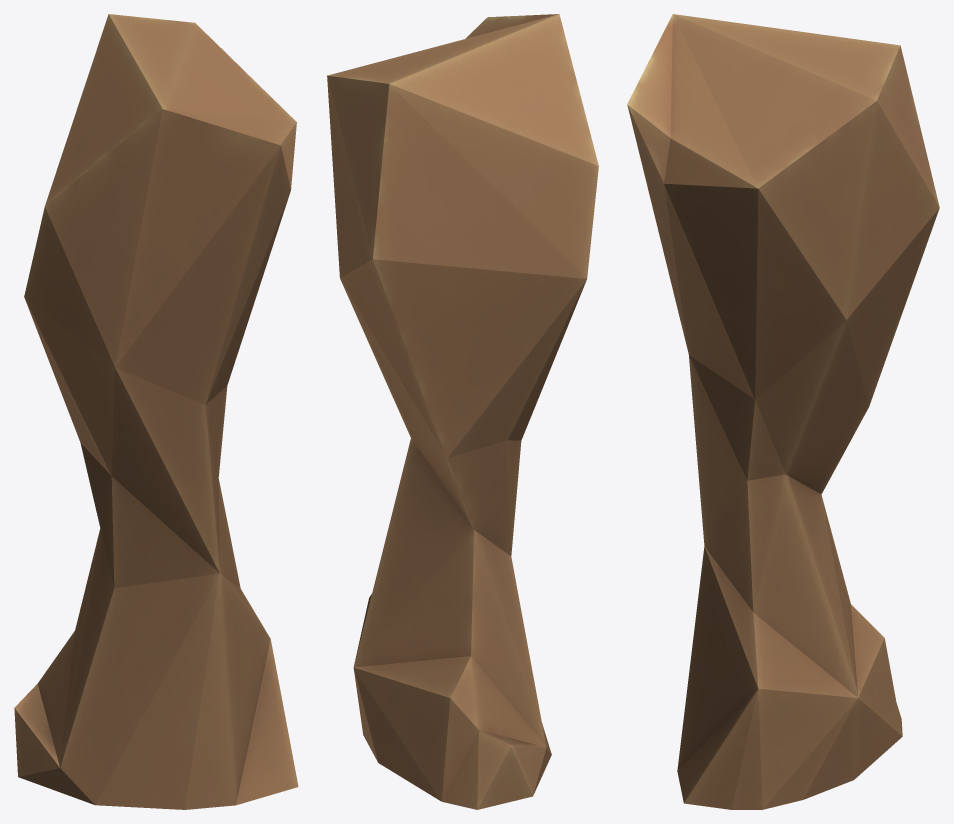
File: Mountain rock_19.fbx
The picture shows the model from 3 angles, left to right: view 1: azimuth 30°, elevation 25°; view 2: azimuth 150°, elevation 25°; view 3: azimuth 270°, elevation 25°; orthographic projection.
Visible parts, largest first — view 1: Mountain rock_19; view 2: Mountain rock_19; view 3: Mountain rock_19.
Part boxes in pixels (x1,y1,x2,y2): Mountain rock_19: [14, 14, 298, 809]; Mountain rock_19: [327, 14, 598, 809]; Mountain rock_19: [627, 14, 939, 809].
Size of the model in its own units: 156 by 410 by 161.
